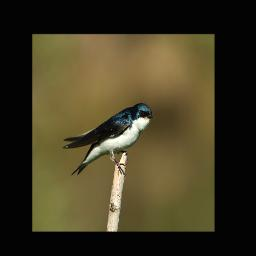Swallow: (60, 102, 154, 180)
